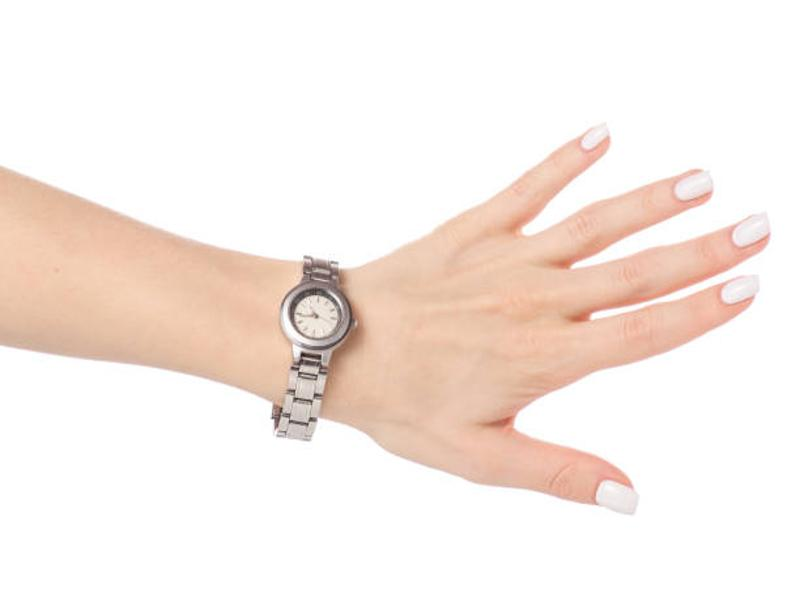watch: (269, 251, 360, 446)
